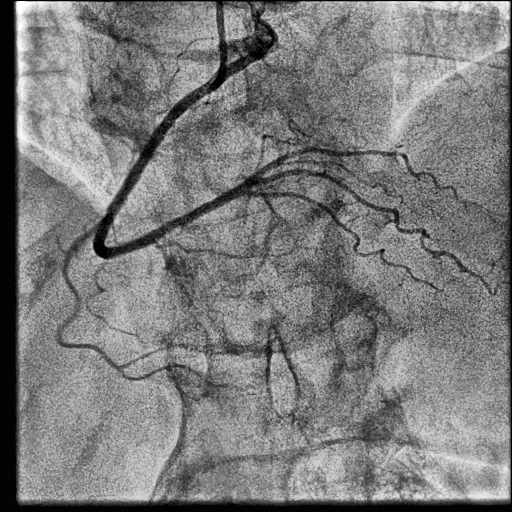pborca: (243, 146, 472, 217)
pda: (248, 191, 440, 292)
rca: (93, 79, 252, 260)
